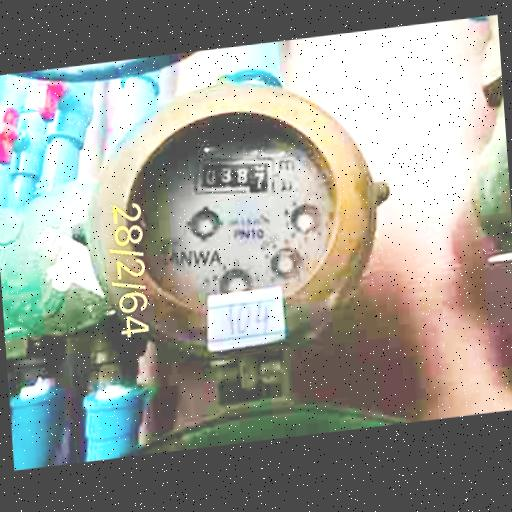0: (199, 163, 220, 189)
3: (216, 163, 238, 189)
7: (248, 162, 270, 194)
8: (234, 162, 252, 188)
border_water_meter_number: (190, 148, 278, 205)
